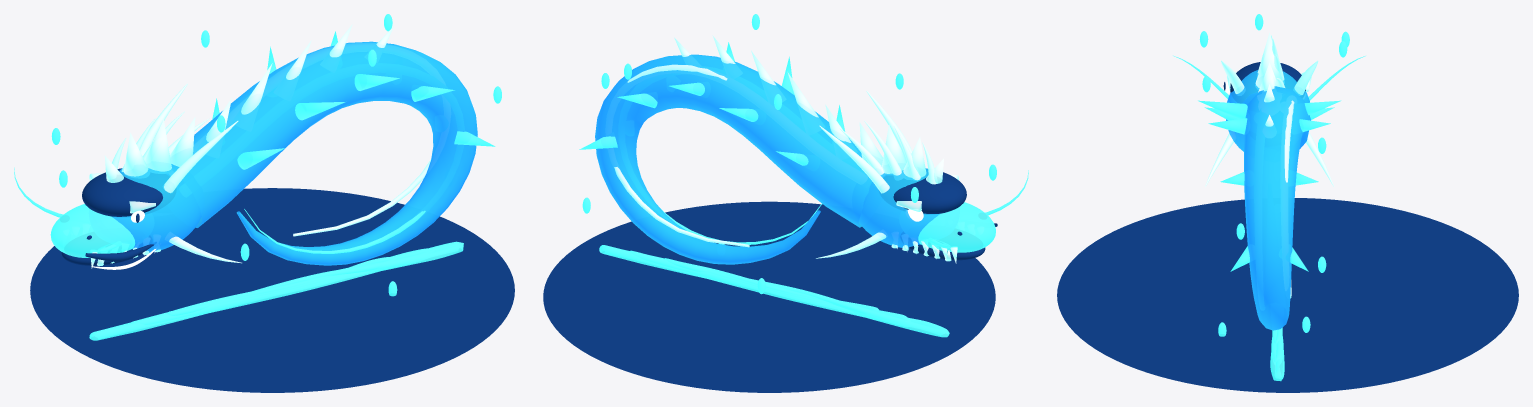
Rendered from WaterDragon_Prototype.fbx.
3 renders of one model, left to right at view 1: azimuth 30°, elevation 25°; view 2: azimuth 150°, elevation 25°; view 3: azimuth 270°, elevation 25°, orthographic. The views are drawn at different scales.
Visible parts, largest first — view 1: GEO-WaterSurface, GEO-Dragon_Body, GEO-Head, GEO-Snout, GEO-Whirlpool_0, GEO-Brow, GEO-Whirlpool_2, GEO-Whirlpool_1, GEO-Crest_2, GEO-Horn_-1, GEO-Dragon_FoamRidge, GEO-Dragon_InnerCurrent (+8 smaller); view 2: GEO-WaterSurface, GEO-Dragon_Body, GEO-Head, GEO-Snout, GEO-Whirlpool_0, GEO-Brow, GEO-Dragon_FoamRidge, GEO-Whirlpool_2, GEO-Whirlpool_1, GEO-Horn_1, GEO-Crest_2, GEO-Crest_1 (+2 smaller); view 3: GEO-WaterSurface, GEO-Dragon_Body, GEO-Head, GEO-Fin_-1_1, GEO-Dragon_FoamRidge, GEO-Brow, GEO-Crest_2.
Part boxes in pixels (x1=…): GEO-WaterSurface: x1=30, y1=188, x2=514, y2=392; GEO-Dragon_Body: x1=171, y1=41, x2=477, y2=265; GEO-Head: x1=111, y1=166, x2=201, y2=252; GEO-Snout: x1=50, y1=204, x2=135, y2=257; GEO-Whirlpool_0: x1=89, y1=241, x2=463, y2=340; GEO-Brow: x1=82, y1=168, x2=163, y2=216; GEO-Whirlpool_2: x1=167, y1=257, x2=397, y2=315; GEO-Whirlpool_1: x1=131, y1=248, x2=435, y2=324; GEO-Crest_2: x1=144, y1=119, x2=171, y2=171; GEO-Horn_-1: x1=164, y1=121, x2=238, y2=193; GEO-Dragon_FoamRidge: x1=293, y1=159, x2=431, y2=236; GEO-Dragon_InnerCurrent: x1=244, y1=209, x2=425, y2=253; GEO-WaterSurface: x1=543, y1=201, x2=995, y2=392; GEO-Dragon_Body: x1=595, y1=54, x2=872, y2=264; GEO-Head: x1=858, y1=168, x2=940, y2=248; GEO-Snout: x1=918, y1=202, x2=995, y2=252; GEO-Whirlpool_0: x1=599, y1=245, x2=949, y2=337; GEO-Brow: x1=893, y1=172, x2=966, y2=213; GEO-Dragon_FoamRidge: x1=614, y1=64, x2=749, y2=247; GEO-Whirlpool_2: x1=664, y1=258, x2=878, y2=313; GEO-Whirlpool_1: x1=629, y1=250, x2=910, y2=322; GEO-Horn_1: x1=819, y1=125, x2=889, y2=193; GEO-Crest_2: x1=882, y1=125, x2=906, y2=173; GEO-Crest_1: x1=903, y1=137, x2=926, y2=177; GEO-WaterSurface: x1=1057, y1=198, x2=1518, y2=392; GEO-Dragon_Body: x1=1234, y1=86, x2=1310, y2=330; GEO-Head: x1=1226, y1=70, x2=1309, y2=151; GEO-Fin_-1_1: x1=1198, y1=100, x2=1247, y2=118; GEO-Dragon_FoamRidge: x1=1284, y1=100, x2=1294, y2=298; GEO-Brow: x1=1230, y1=62, x2=1305, y2=92; GEO-Crest_2: x1=1255, y1=43, x2=1283, y2=87.
Bounding box in the file's own units: 9.2 × 5.24 × 8.8.
